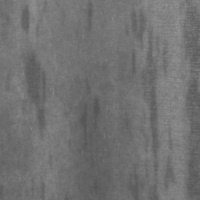inclusion: (142, 22, 171, 183), (176, 1, 199, 197), (22, 50, 52, 150), (75, 72, 104, 161), (121, 3, 148, 80), (158, 120, 182, 196), (77, 1, 98, 38), (15, 1, 35, 39)
